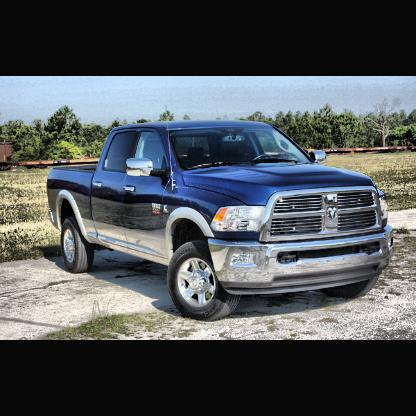Dodge Ram Pickup 3500 Crew Cab 2010: (47, 121, 397, 321)
